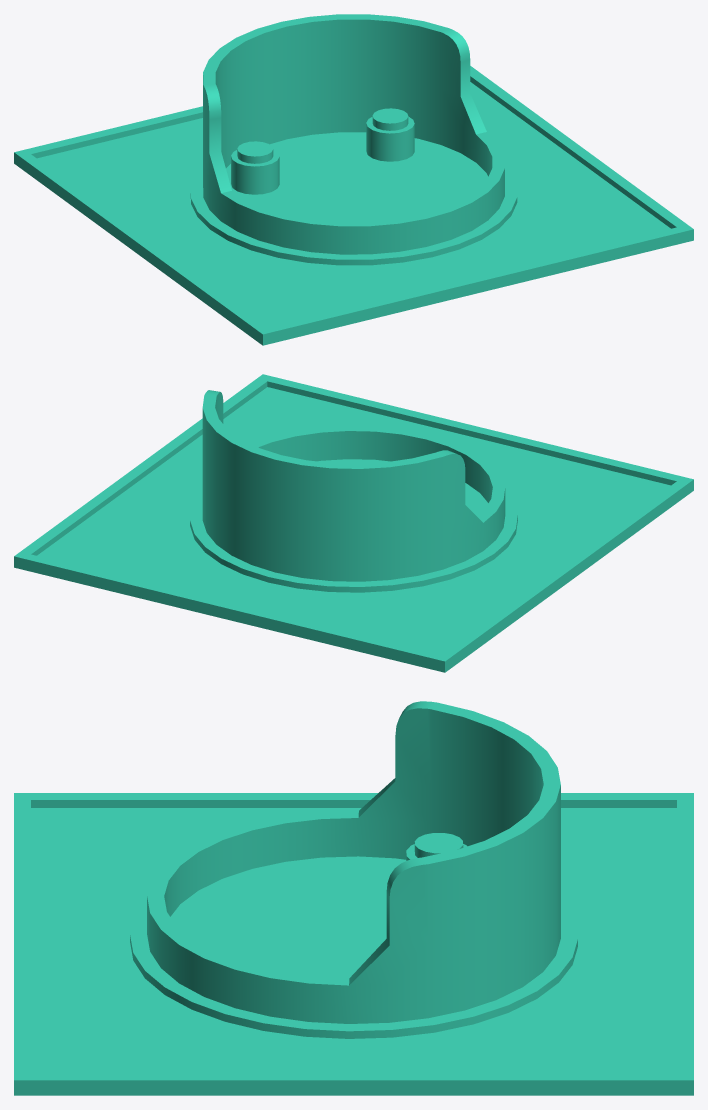
File: Floor_A_4x4m_LadderInro.FBX
3 views of the same model, one above another, from view 1: azimuth 30°, elevation 25°; view 2: azimuth 150°, elevation 25°; view 3: azimuth 270°, elevation 25° (orthographic). The views are drawn at different scales.
Parts seen in each view (by area): view 1: Floor_A_4x4m_LadderInro; view 2: Floor_A_4x4m_LadderInro; view 3: Floor_A_4x4m_LadderInro.
Boxes of the visible parts, bbox=[...] form: Floor_A_4x4m_LadderInro: bbox=[14, 14, 693, 345]; Floor_A_4x4m_LadderInro: bbox=[14, 374, 693, 672]; Floor_A_4x4m_LadderInro: bbox=[14, 701, 693, 1095].
Size of the model in its own units: 400 by 110 by 400.
